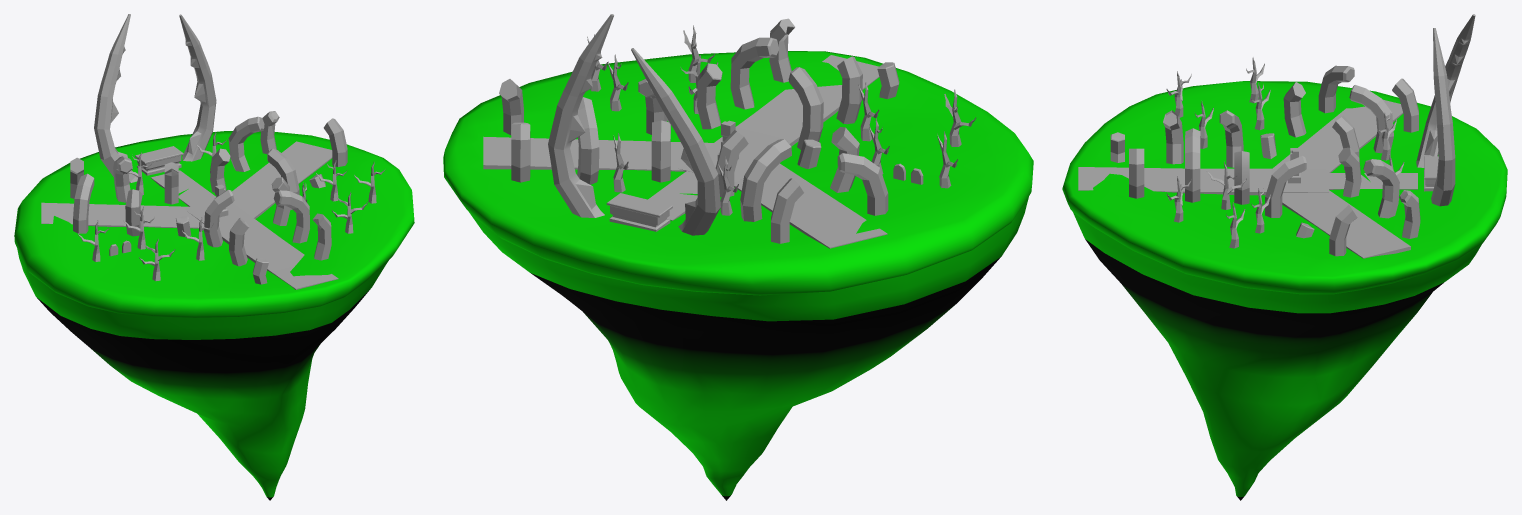
Rendered from Test Island 3.fbx.
3 views of the same model, side by side, from view 1: azimuth 30°, elevation 25°; view 2: azimuth 150°, elevation 25°; view 3: azimuth 270°, elevation 25° (orthographic). The views are drawn at different scales.
Parts seen in each view (by area): view 1: pasted__polySurface5, polySurface324, polySurface333, polySurface337, polySurface343, Dead_Tree_11, polySurface342, polySurface344, polySurface322, polySurface345, polySurface346, Altar; view 2: pasted__polySurface5, polySurface324, polySurface337, polySurface333, polySurface345, polySurface343, Dead_Tree_11, polySurface344, polySurface322, polySurface342, Altar, polySurface346; view 3: pasted__polySurface5, polySurface333, polySurface324, polySurface337, polySurface343, polySurface342, Dead_Tree_11, polySurface344, polySurface345, polySurface322, polySurface346.
Boxes of the visible parts, bbox=[...] form: pasted__polySurface5: bbox=[14, 131, 414, 500]; polySurface324: bbox=[204, 177, 331, 284]; polySurface333: bbox=[210, 111, 347, 209]; polySurface337: bbox=[70, 156, 191, 237]; polySurface343: bbox=[185, 201, 338, 289]; Dead_Tree_11: bbox=[78, 132, 385, 281]; polySurface342: bbox=[232, 141, 332, 218]; polySurface344: bbox=[41, 202, 204, 228]; polySurface322: bbox=[94, 14, 137, 182]; polySurface345: bbox=[179, 14, 216, 161]; polySurface346: bbox=[150, 170, 215, 206]; Altar: bbox=[135, 146, 183, 175]; pasted__polySurface5: bbox=[443, 51, 1033, 500]; polySurface324: bbox=[697, 18, 899, 149]; polySurface337: bbox=[715, 127, 888, 243]; polySurface333: bbox=[499, 79, 670, 184]; polySurface345: bbox=[548, 14, 613, 217]; polySurface343: bbox=[679, 55, 879, 181]; Dead_Tree_11: bbox=[587, 25, 976, 215]; polySurface344: bbox=[734, 163, 887, 248]; polySurface322: bbox=[631, 48, 720, 235]; polySurface342: bbox=[483, 136, 713, 171]; Altar: bbox=[606, 193, 672, 231]; polySurface346: bbox=[648, 171, 697, 220]; pasted__polySurface5: bbox=[1062, 81, 1507, 500]; polySurface333: bbox=[1265, 147, 1420, 256]; polySurface324: bbox=[1110, 110, 1249, 204]; polySurface337: bbox=[1260, 65, 1418, 169]; polySurface343: bbox=[1078, 167, 1328, 195]; polySurface342: bbox=[1282, 190, 1410, 258]; Dead_Tree_11: bbox=[1166, 57, 1404, 248]; polySurface344: bbox=[1273, 99, 1403, 172]; polySurface345: bbox=[1431, 28, 1455, 206]; polySurface322: bbox=[1416, 14, 1475, 167]; polySurface346: bbox=[1329, 173, 1417, 189].
Size of the model in its own units: 74.37 by 81.35 by 69.65.
